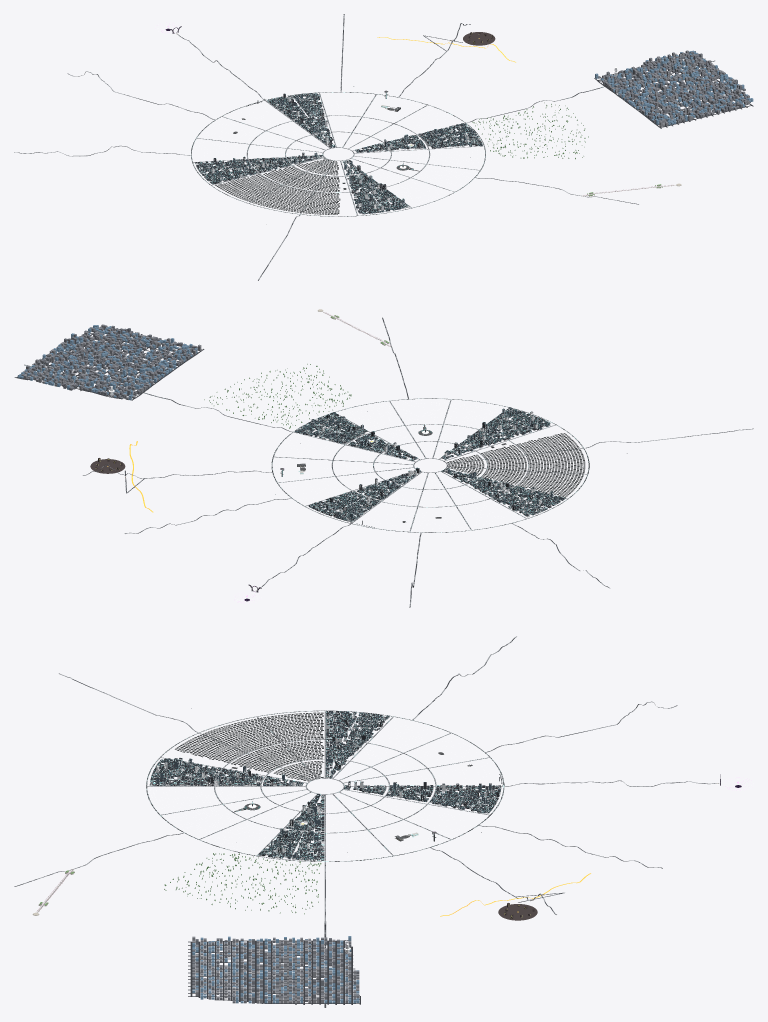
Rendered from canon-v4.glb.
3 views of the same model, one above another, from view 1: azimuth 30°, elevation 25°; view 2: azimuth 150°, elevation 25°; view 3: azimuth 270°, elevation 25° (orthographic). The views are drawn at different scales.
Parts seen in each view (by area): view 1: ACADEMY_HALL, CULTURE_LANE, BLD_Grid_CardinalWedges; view 2: ACADEMY_HALL, CULTURE_LANE, BLD_Grid_CardinalWedges; view 3: ACADEMY_HALL, CULTURE_LANE, BLD_Grid_CardinalWedges.
Part boxes in pixels (x1,y1,x2,y2): ACADEMY_HALL: (14,14,753,280); CULTURE_LANE: (195,93,482,212); BLD_Grid_CardinalWedges: (198,55,703,213); ACADEMY_HALL: (14,309,753,607); CULTURE_LANE: (276,399,557,529); BLD_Grid_CardinalWedges: (29,332,562,518); ACADEMY_HALL: (14,636,741,1007); CULTURE_LANE: (149,711,500,860); BLD_Grid_CardinalWedges: (150,711,500,1000).
Size of the model in its own units: 7820 by 185 by 6629.
16 materials, 16 textured.
